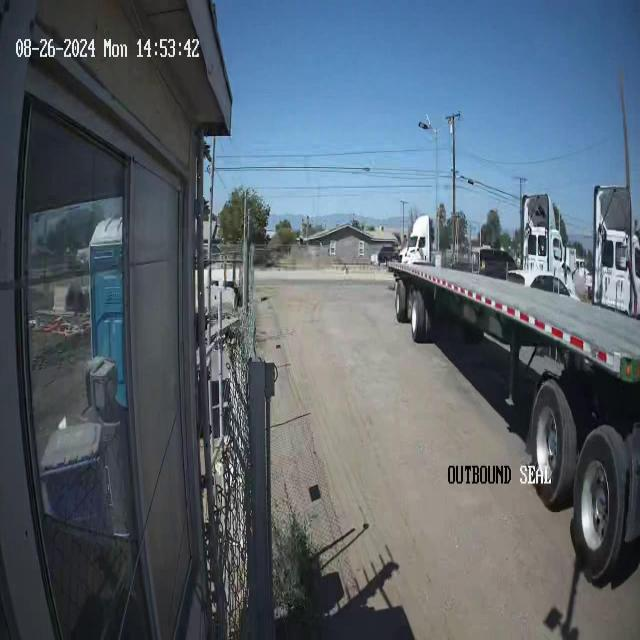TRUCK_IN: (390, 260, 640, 594)
